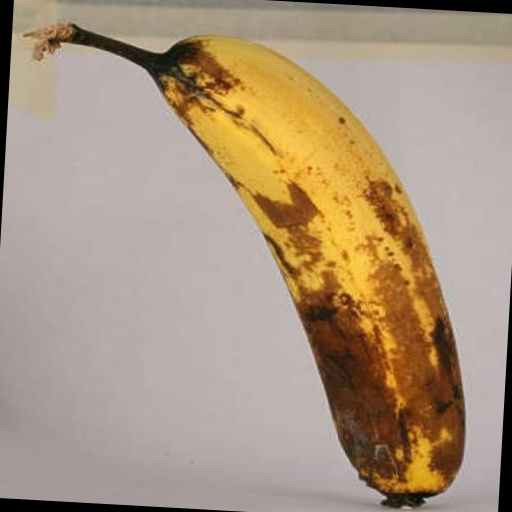fruit: (22, 9, 50, 62)
